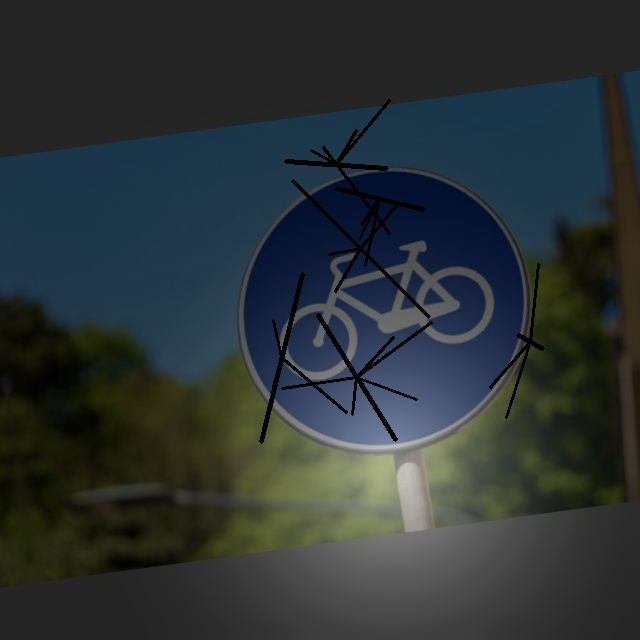Compulsory_Cycle_Track: (221, 149, 550, 472)
